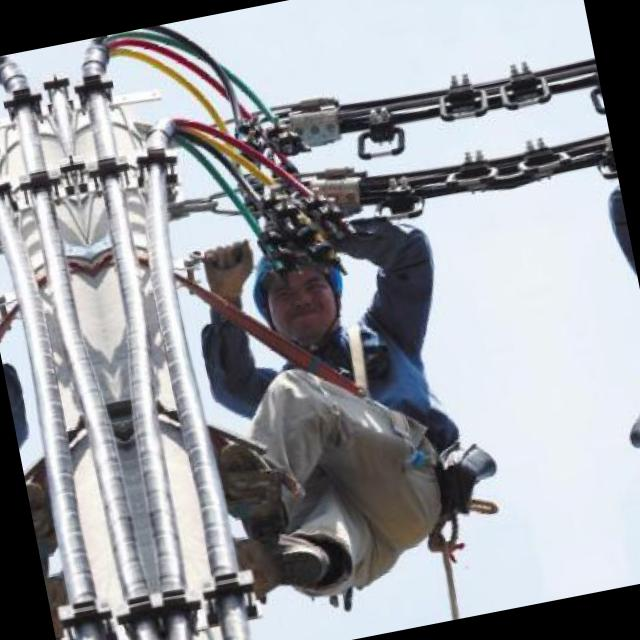helmet: (229, 226, 360, 362)
